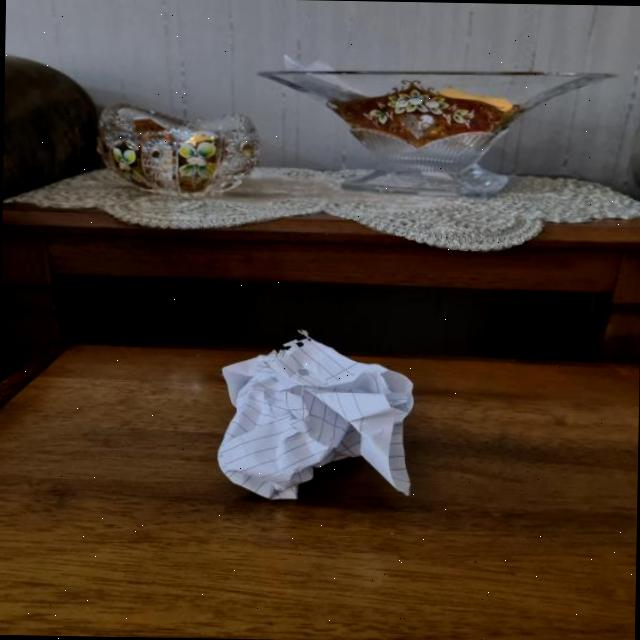trash: (218, 328, 420, 516)
